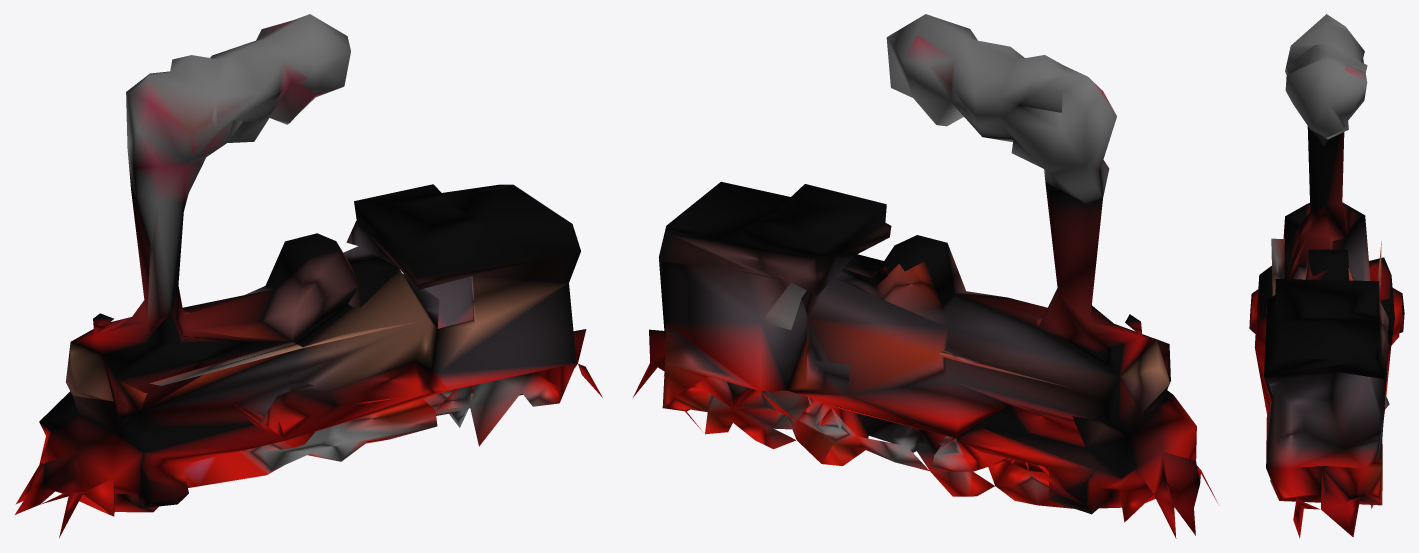
The model's file is gen3d-locomotive-lod1.glb.
3 renders of one model, left to right at view 1: azimuth 30°, elevation 25°; view 2: azimuth 150°, elevation 25°; view 3: azimuth 270°, elevation 25°, orthographic. The views are drawn at different scales.
Visible parts, largest first — view 1: part_0; view 2: part_0; view 3: part_0.
Boxes of the visible parts, left/top/right/bottom form: part_0: left=15, top=14, right=602, bottom=537; part_0: left=632, top=14, right=1217, bottom=538; part_0: left=1249, top=14, right=1404, bottom=538.
Bounding box in the file's own units: 1.31 × 0.9985 × 0.3789.
